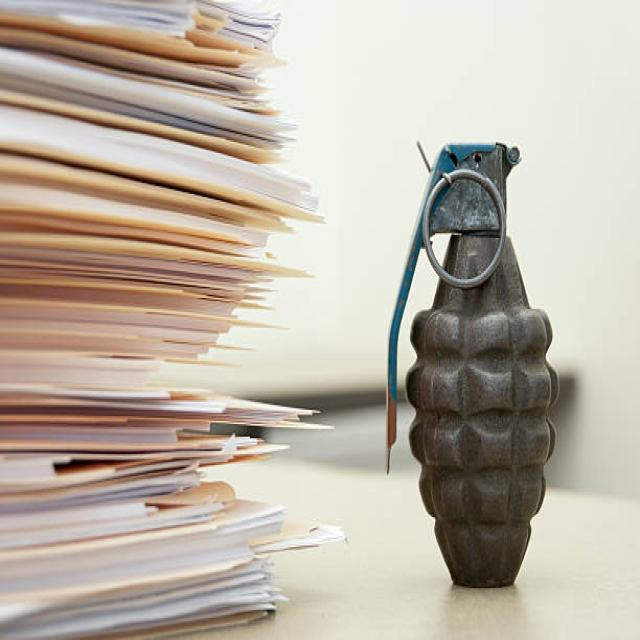grenade: (382, 135, 563, 591)
